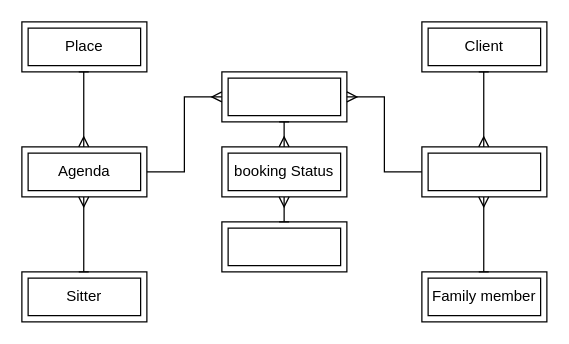
Some shapes in this 569 by 344 pixel diagram are drawn without their labels. Each missing label, with the box of its shape:
Booking: (221, 71, 347, 122)
Client Family: (421, 146, 547, 197)
Status: (221, 221, 347, 272)
